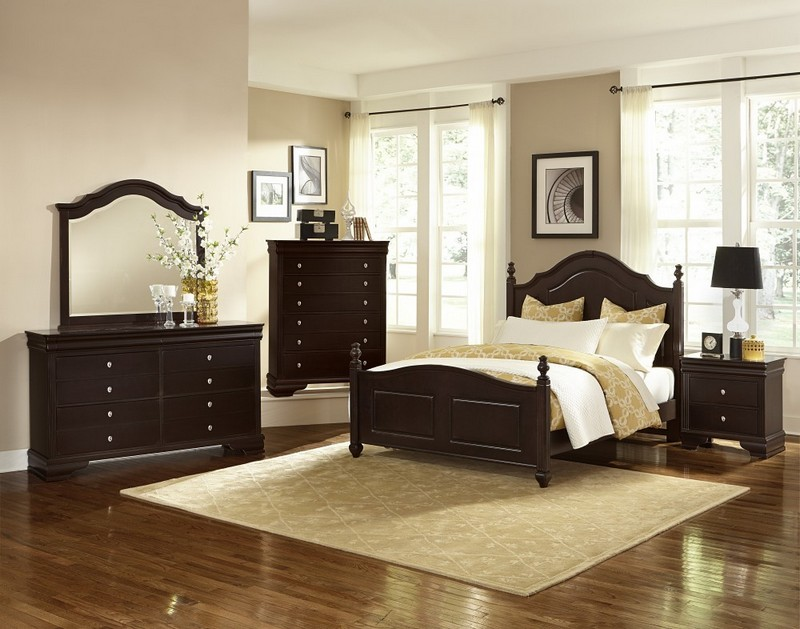bed: (351, 249, 686, 487)
lamp: (709, 236, 766, 343)
stool: (676, 341, 787, 469)
